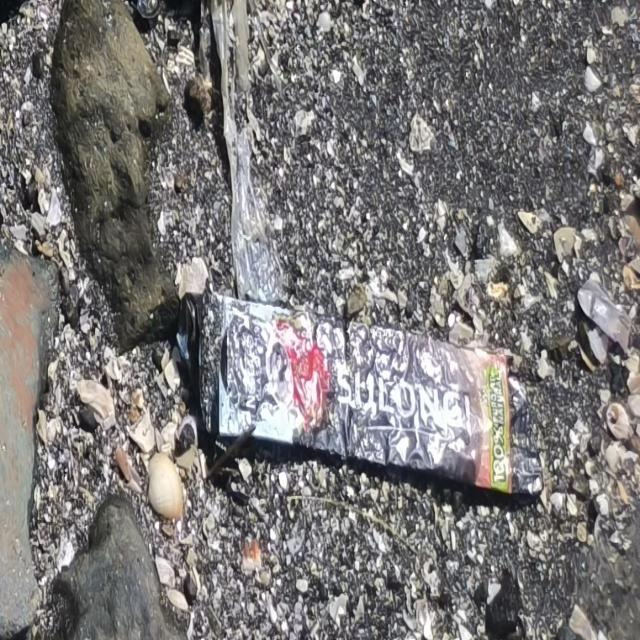plastic_waste: (201, 293, 545, 495)
